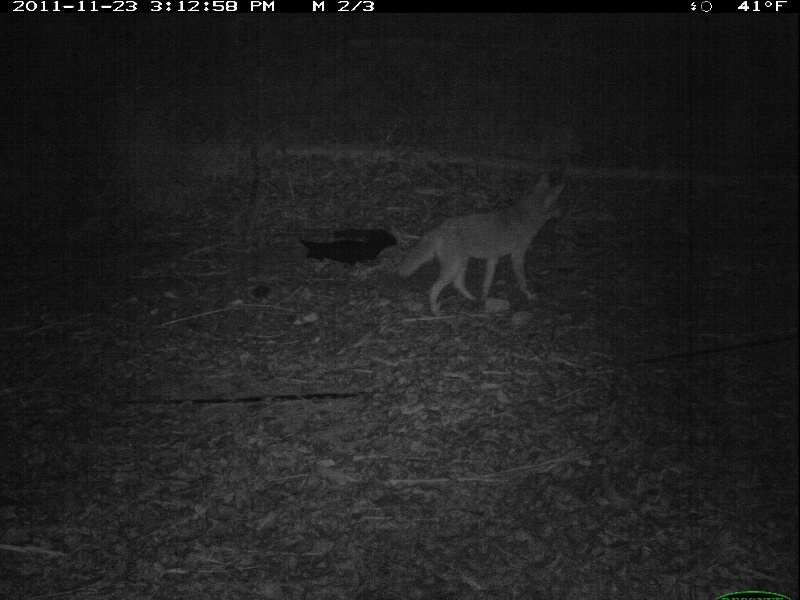coyote: (398, 179, 568, 316)
